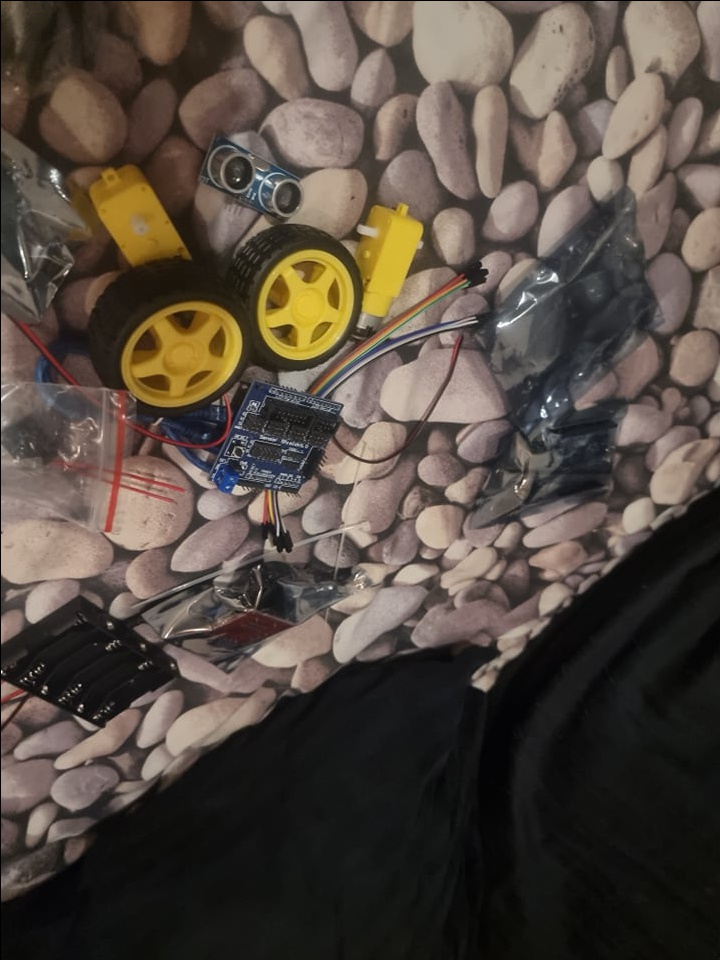5V EXPANSION: (207, 385, 339, 495)
SENSOR: (197, 133, 314, 222)
